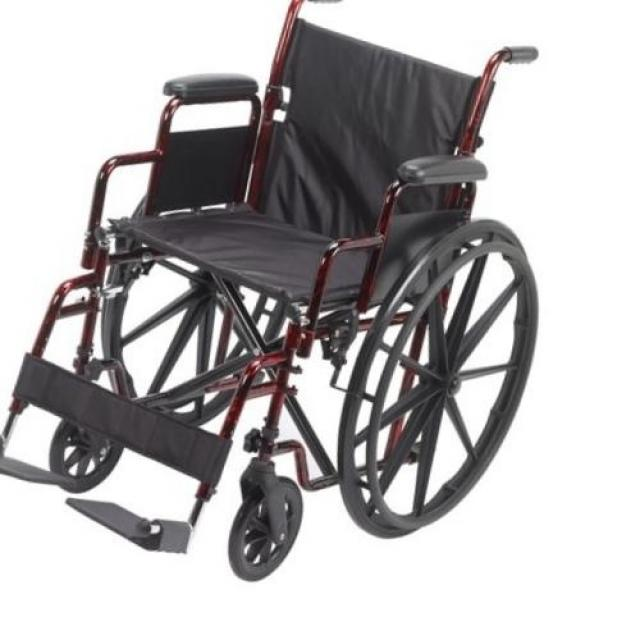wheelchair: (3, 0, 556, 596)
